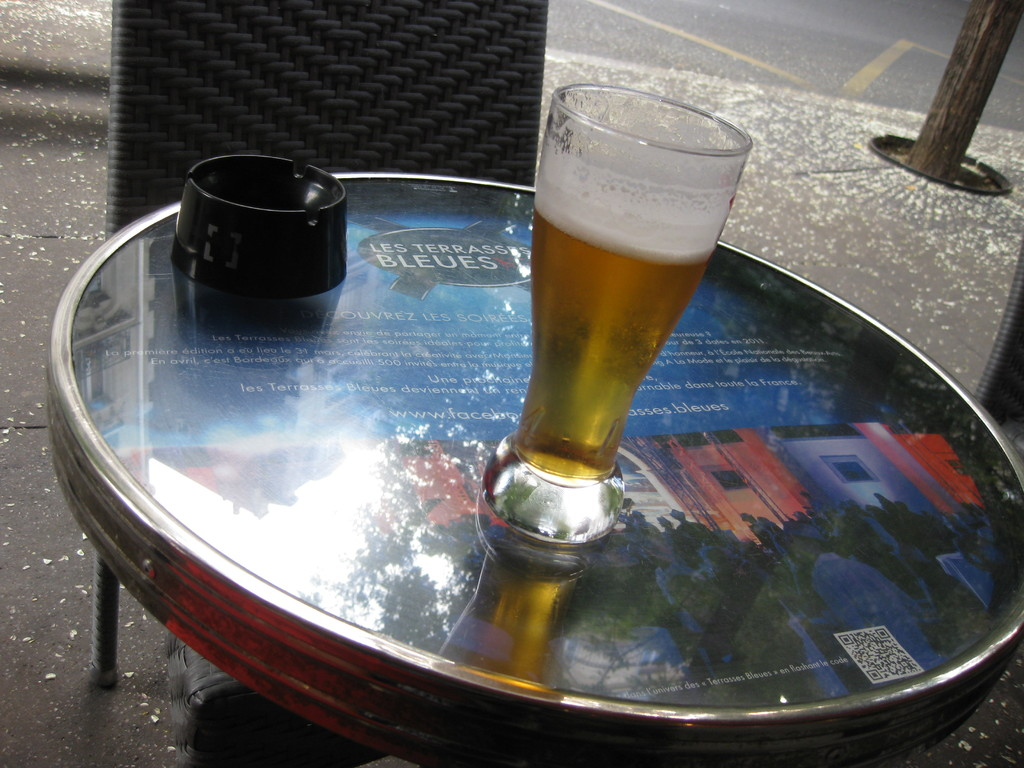Beer: (533, 207, 708, 478)
